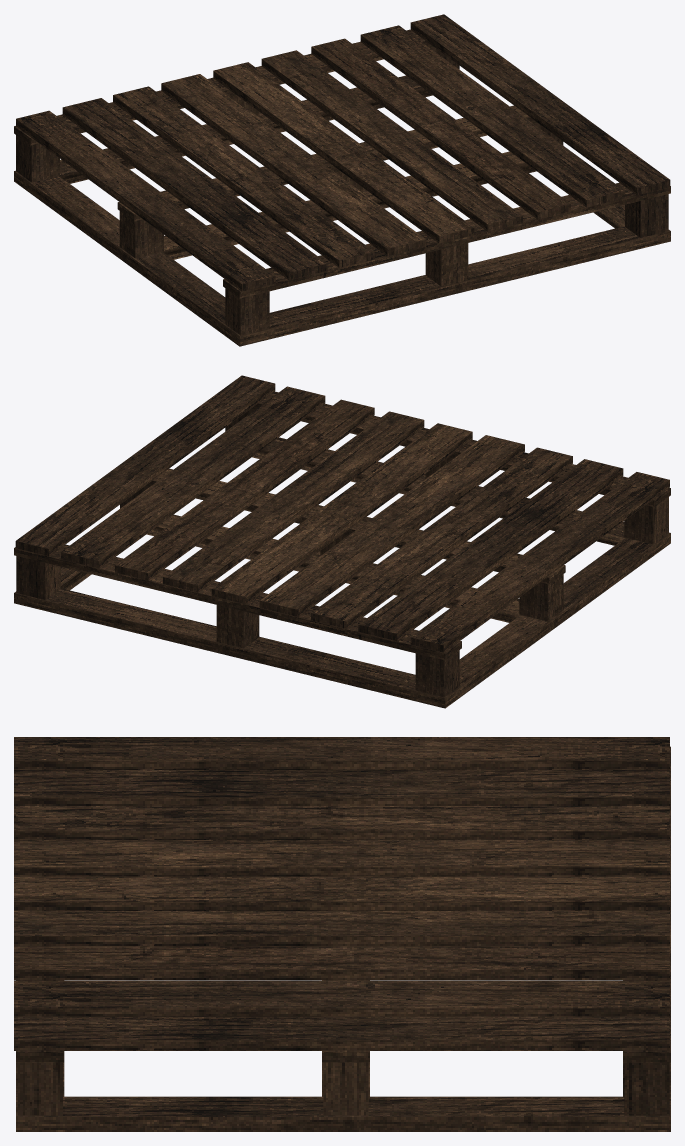
File: wood_pallet_2.glb
The picture shows the model from 3 angles, top to bottom: view 1: azimuth 30°, elevation 25°; view 2: azimuth 150°, elevation 25°; view 3: azimuth 270°, elevation 25°; orthographic projection. The views are drawn at different scales.
Visible parts, largest first — view 1: wood_pallet_2; view 2: wood_pallet_2; view 3: wood_pallet_2.
Boxes of the visible parts, bbox=[...] form: wood_pallet_2: bbox=[14, 14, 670, 346]; wood_pallet_2: bbox=[14, 375, 670, 708]; wood_pallet_2: bbox=[14, 737, 670, 1131].
Bounding box in the file's own units: 1.44 × 0.1995 × 1.31.
1 material, 1 textured.
